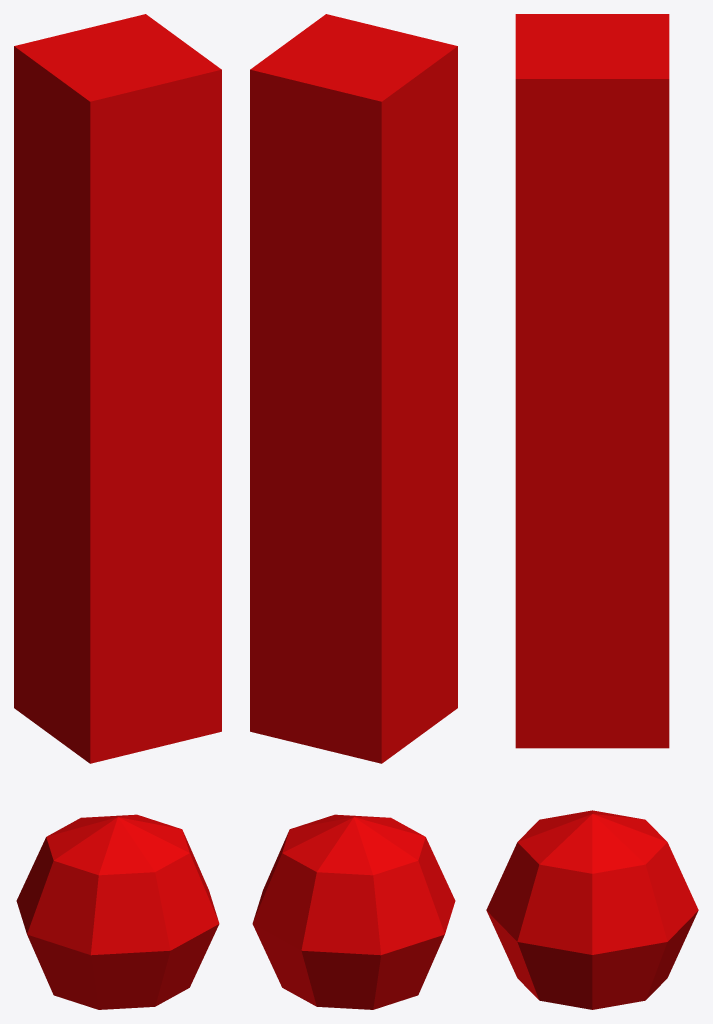
The model's file is need_ammo_marker.fbx.
3 renders of one model, left to right at view 1: azimuth 30°, elevation 25°; view 2: azimuth 150°, elevation 25°; view 3: azimuth 270°, elevation 25°, orthographic.
Visible parts, largest first — view 1: Sphere; view 2: Sphere; view 3: Sphere.
Part boxes in pixels (box(x1,y1,x2,y2)): Sphere: box(14, 14, 221, 1009); Sphere: box(250, 14, 457, 1009); Sphere: box(486, 14, 698, 1009).
Size of the model in its own units: 200 by 997 by 200.
